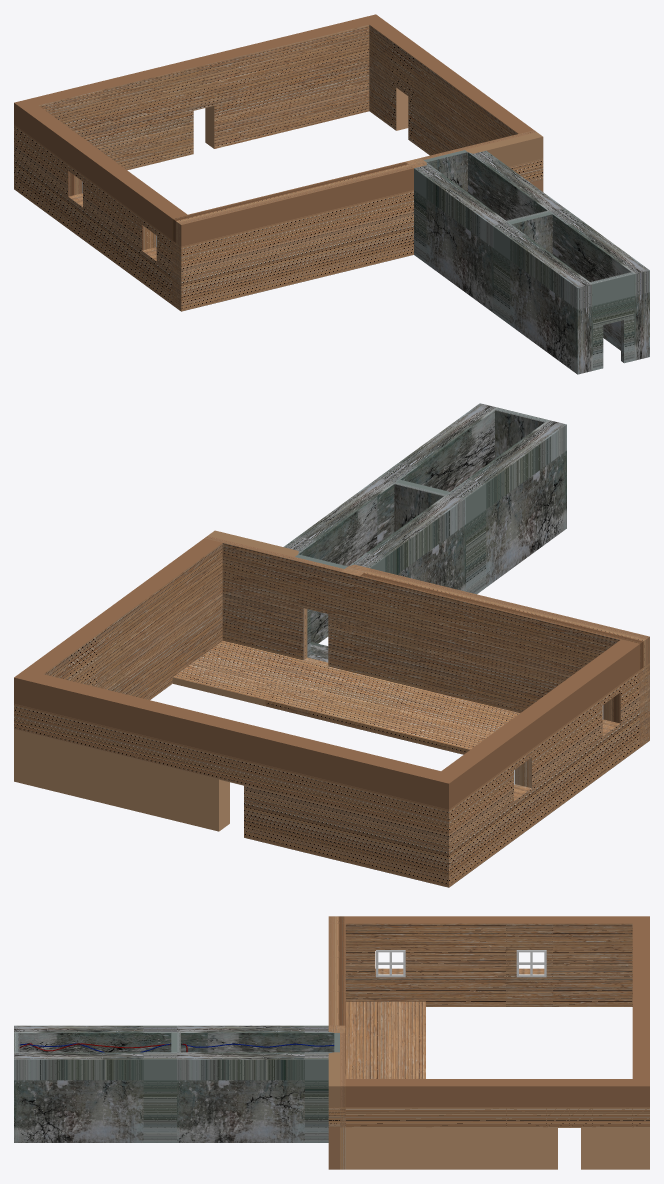
File: all_wall.FBX
3 views of the same model, one above another, from view 1: azimuth 30°, elevation 25°; view 2: azimuth 150°, elevation 25°; view 3: azimuth 270°, elevation 25° (orthographic). The views are drawn at different scales.
Parts seen in each view (by area): view 1: Box003, Box001, Box002; view 2: Box003, Box001, Box002; view 3: Box003, Box001, Box002, Window001, Window, Line01.
Part boxes in pixels (x1,y1,x2,y2): Box003: (14,14,543,311); Box001: (493,208,649,374); Box002: (414,150,564,312); Box003: (14,530,649,887); Box001: (378,403,566,594); Box002: (283,478,465,662); Box003: (328,916,649,1169); Box001: (14,1025,176,1142); Box002: (177,1025,339,1142); Window001: (516,950,546,977); Window: (376,950,405,977); Line01: (19,1043,334,1052).
Size of the model in its own units: 350 by 80 by 554.
